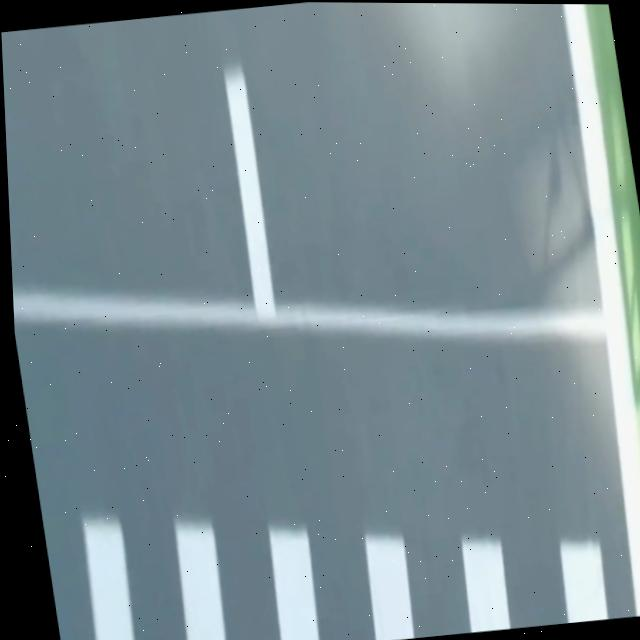center: (223, 65, 275, 318)
right: (562, 4, 640, 616)
